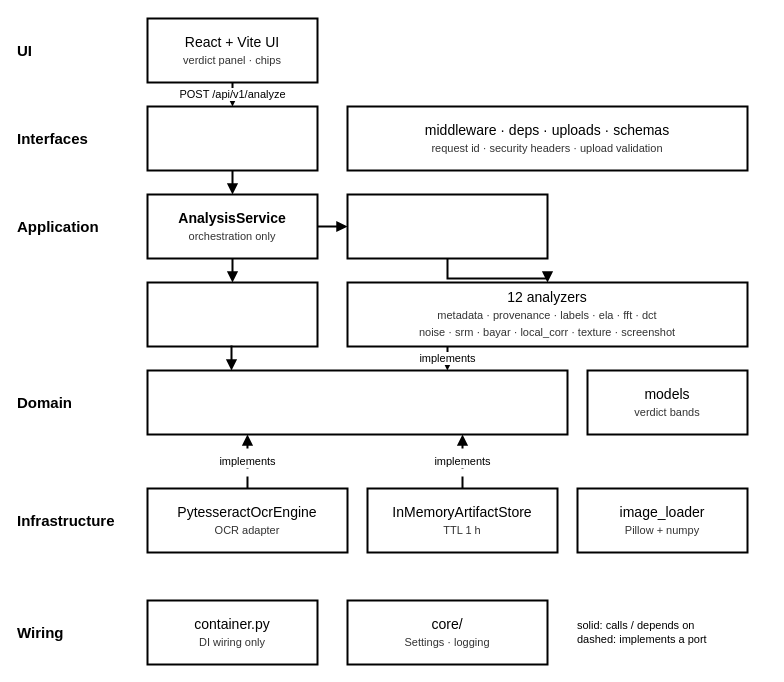
Image size: 784x682. Some labels were removed from this diagram. The shapes that lost their labels are listed below. From the top down, each one's centre as x and y in pixels, then its label:
pixel 232 138: routes /api/v1 health · ready analyze · artifacts
pixel 447 226: AnalyzerRegistry stable ids, no duplicates
pixel 232 314: WeightedFusionPolicy accumulate · calibrate probes
pixel 357 402: ports Analyzer · FusionPolicy · ArtifactStore · OcrEngine
